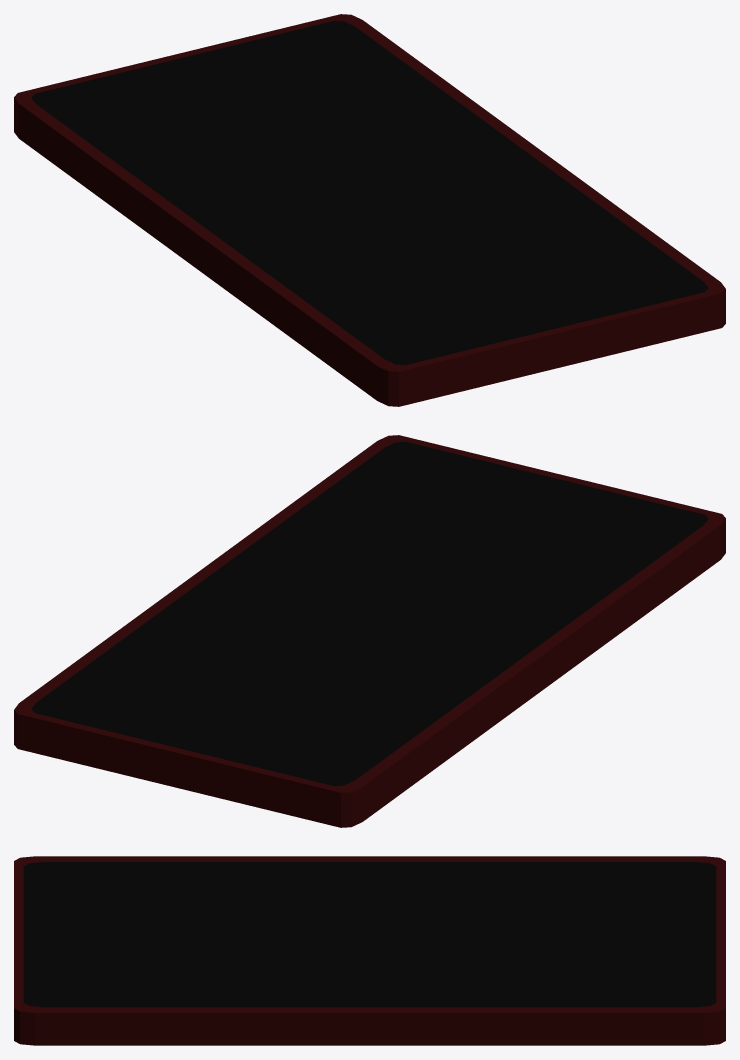
The model's file is Smartphone.001.glb.
3 views of the same model, one above another, from view 1: azimuth 30°, elevation 25°; view 2: azimuth 150°, elevation 25°; view 3: azimuth 270°, elevation 25° (orthographic). The views are drawn at different scales.
Parts seen in each view (by area): view 1: Smartphone.001; view 2: Smartphone.001; view 3: Smartphone.001.
Part boxes in pixels (x1=…): Smartphone.001: x1=14, y1=14, x2=725, y2=406; Smartphone.001: x1=14, y1=435, x2=725, y2=827; Smartphone.001: x1=14, y1=856, x2=725, y2=1045.
Size of the model in its own units: 0.5028 by 0.0595 by 0.9658.
